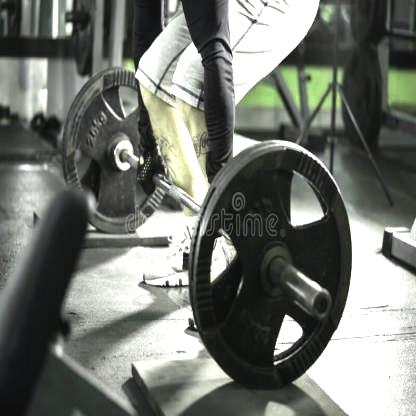Barbell: (313, 289, 334, 321)
